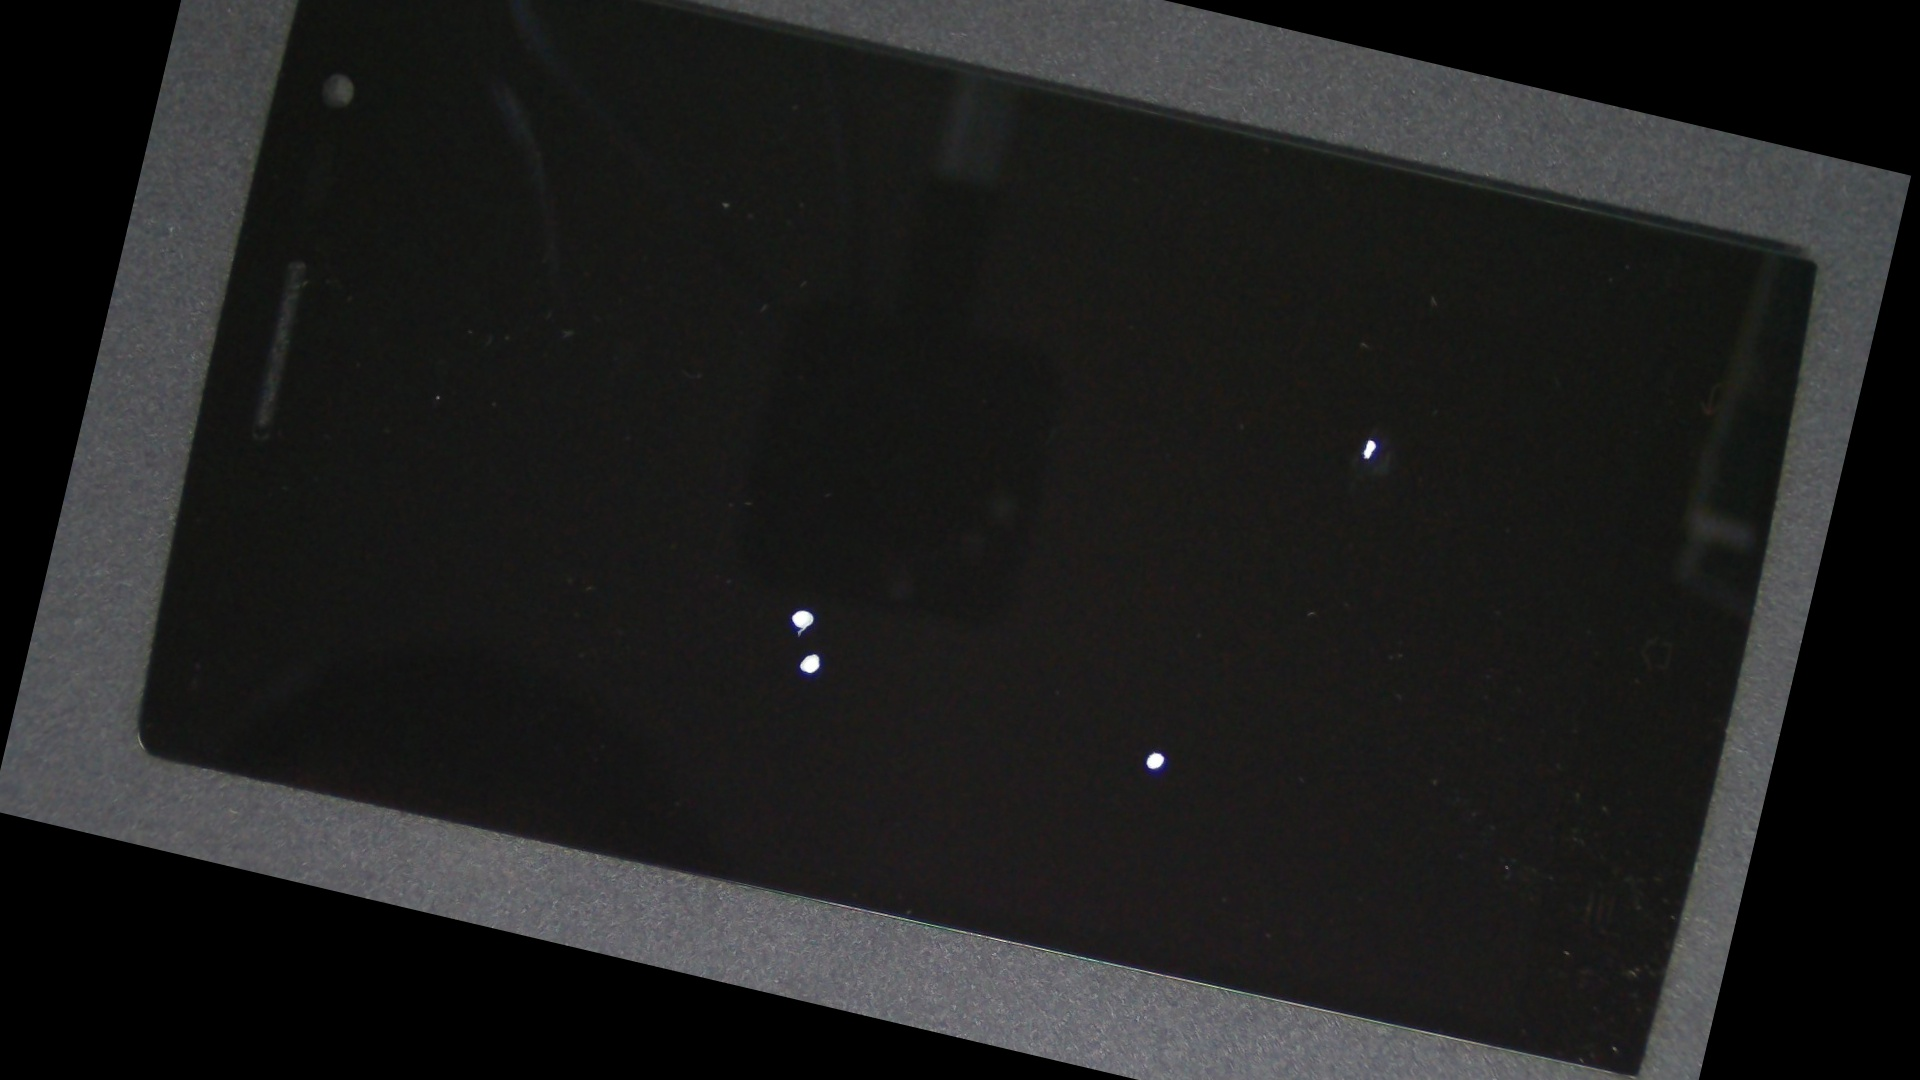oil: (537, 265, 1785, 1080), (364, 216, 1269, 1073), (364, 195, 1245, 1023), (715, 109, 1869, 729)
